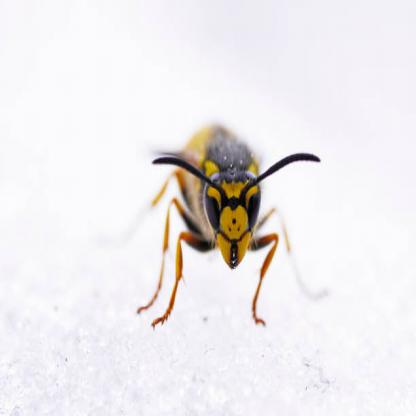sawfly: (100, 110, 332, 339)
